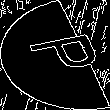P_E: (10, 30, 100, 80)
